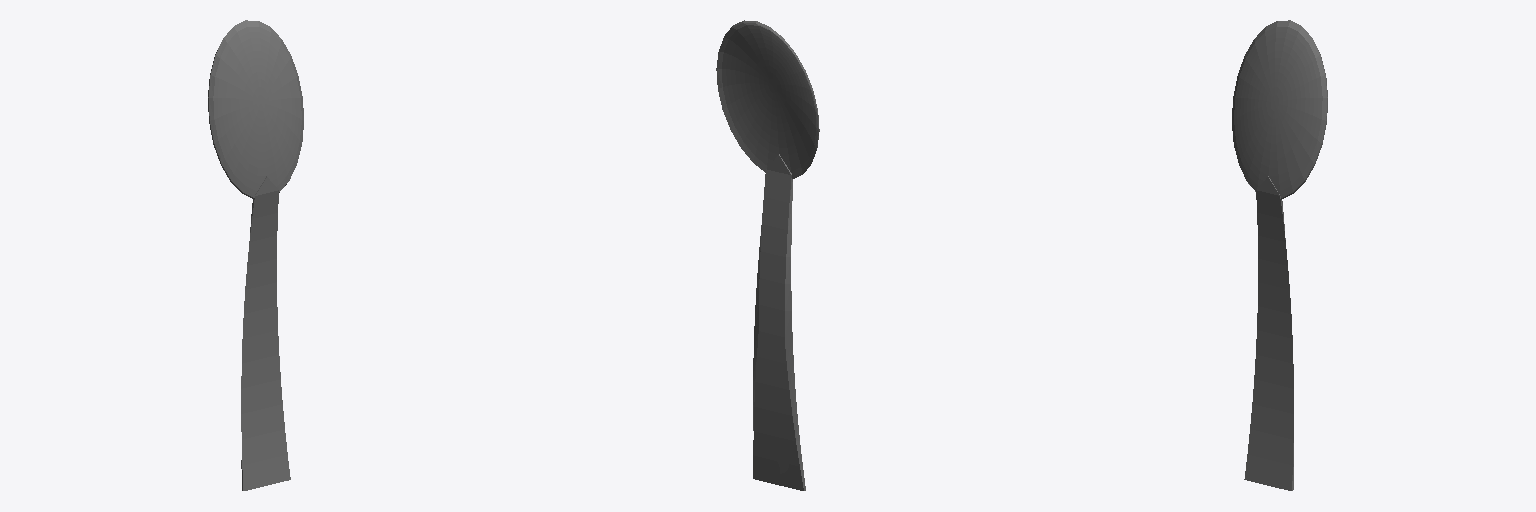
URDF robot description (spoon):
<robot name="spoon">
  <link name="spoon">
    <visual>
      <origin rpy="0 0 0" xyz="0 0 -0.075"/>
      <!-- inertia correct!!! -->
      <inertial>
       <origin rpy="0 0 0" xyz="0.0 0 0"/>
       <mass value="5"/>
       <inertia ixx="0" ixy="0" ixz="0" iyy="0" iyz="0" izz="0"/>
    </inertial>
      <geometry>
        <mesh filename="spoon.dae.obj"/>
        <!--<mesh filename="spoon.dae"/>-->
      </geometry>
      <material name="c">
        <color rgba="0.5 0.5 0.5 1.0" />
      </material>
    </visual>
    <collision>
      <geometry>
        <!--<cylinder radius="0.25" length="7"></cylinder>-->
        <mesh filename="spoon.dae.obj"></mesh>
      </geometry>
    </collision>
  </link>
</robot>

--- Render facts (derived) ---
The picture shows the robot from 3 angles, left to right: view 1: azimuth 30°, elevation 25°; view 2: azimuth 150°, elevation 25°; view 3: azimuth 330°, elevation 25°; orthographic projection.
Model spoon with 1 links and 0 joints (none), rooted at spoon, posed all joints at 0.
Visible links, largest first — view 1: spoon; view 2: spoon; view 3: spoon.
Link boxes in pixels (left/top/right/bottom): spoon: left=208, top=20, right=303, bottom=490; spoon: left=716, top=20, right=819, bottom=490; spoon: left=1232, top=20, right=1327, bottom=490.
Size in the robot's own frame: 2 by 0.8553 by 9.21 metres.
Meshes: 1 distinct files referenced, 1 mesh visuals loaded (1 OBJ).